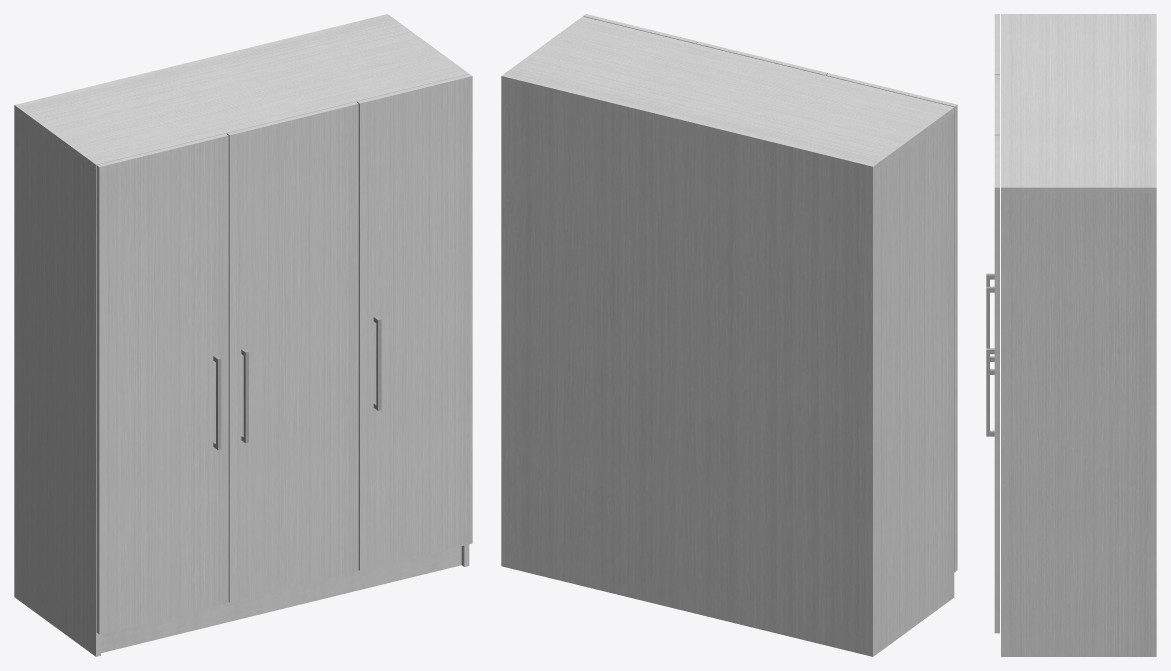
File: Wardrobe.FBX
3 views of the same model, side by side, from view 1: azimuth 30°, elevation 25°; view 2: azimuth 150°, elevation 25°; view 3: azimuth 270°, elevation 25° (orthographic). The views are drawn at different scales.
Parts seen in each view (by area): view 1: wardrobe; view 2: wardrobe; view 3: wardrobe.
Boxes of the visible parts, x1,y1,x2,y2 form: wardrobe: [14, 14, 472, 656]; wardrobe: [501, 14, 957, 656]; wardrobe: [986, 14, 1156, 656].
Bounding box in the file's own units: 155 × 195 × 64.17.
2 materials, 2 textured.
